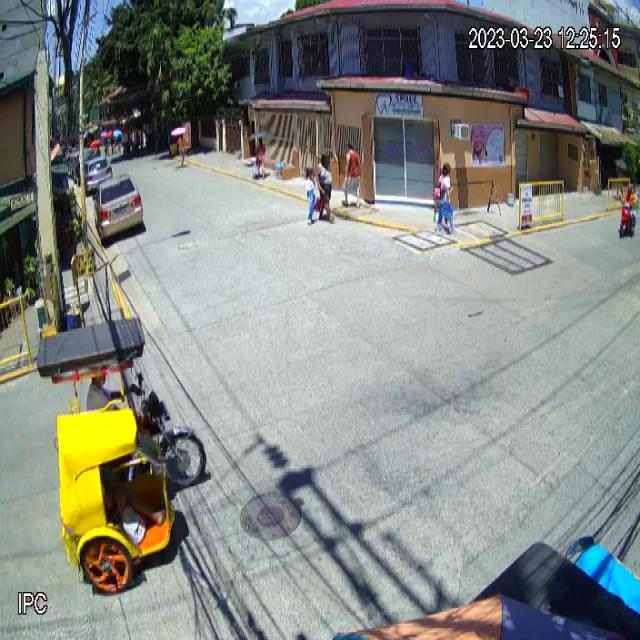Tricycle: (40, 325, 211, 591)
